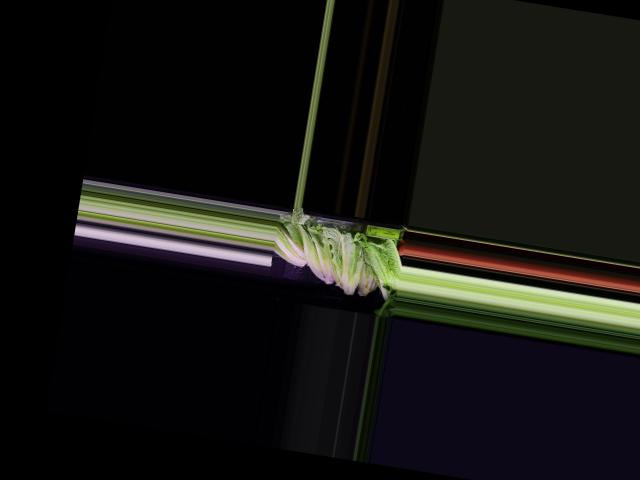lettuce: (270, 222, 315, 269)
